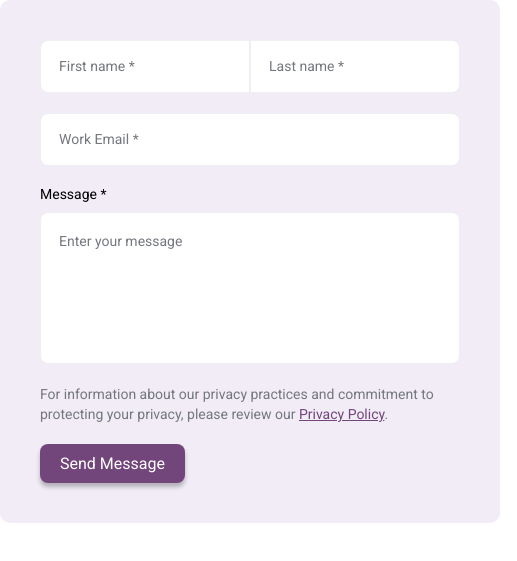
Test case: ContactForm › should display matching error when email is invalid
This screenshot has width=517, height=561.
Fill first name with test
Type "test" into the field labelled "First name *" at (145,66), box [40, 40, 250, 93]
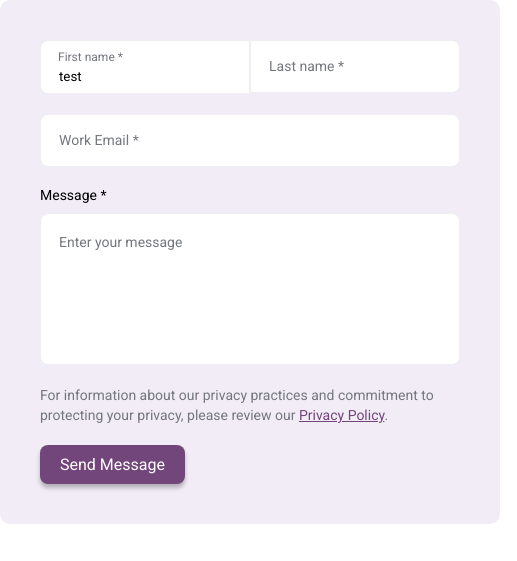
Fill last name with test
Type "test" into the field labelled "Last name *" at (355,66), box [250, 40, 460, 93]
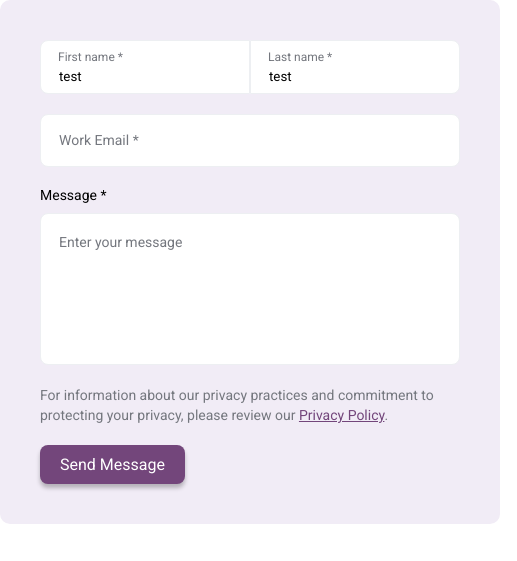
Fill email with invalid format
Type "test" into the field labelled "Work Email *" at (250,140), box [40, 114, 460, 167]
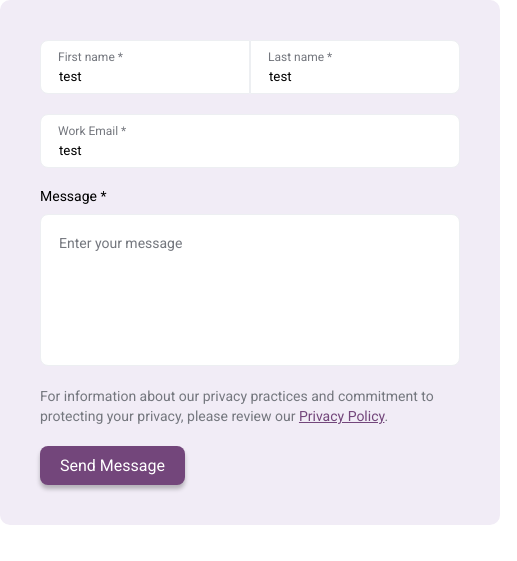
Fill message with test
Type "test" into the text box labelled "Message *" at (250,290), box [40, 214, 460, 366]
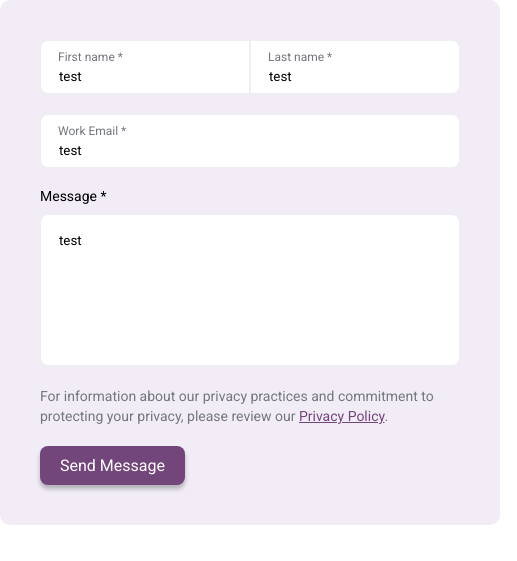
Submit the form from the button, box [40, 446, 185, 485]
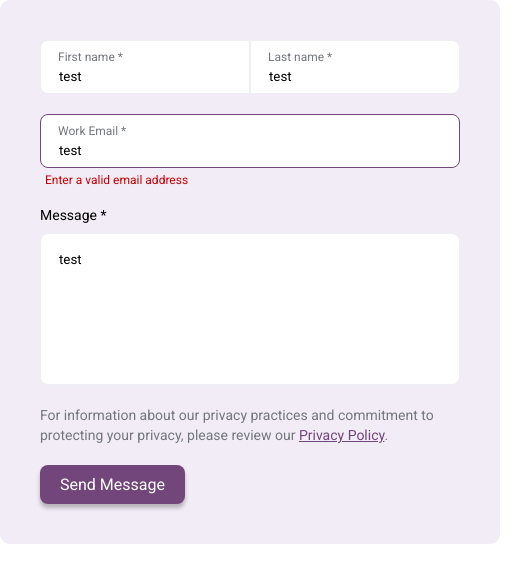
Expected: the number of messages is 1, [45, 173, 188, 187]
